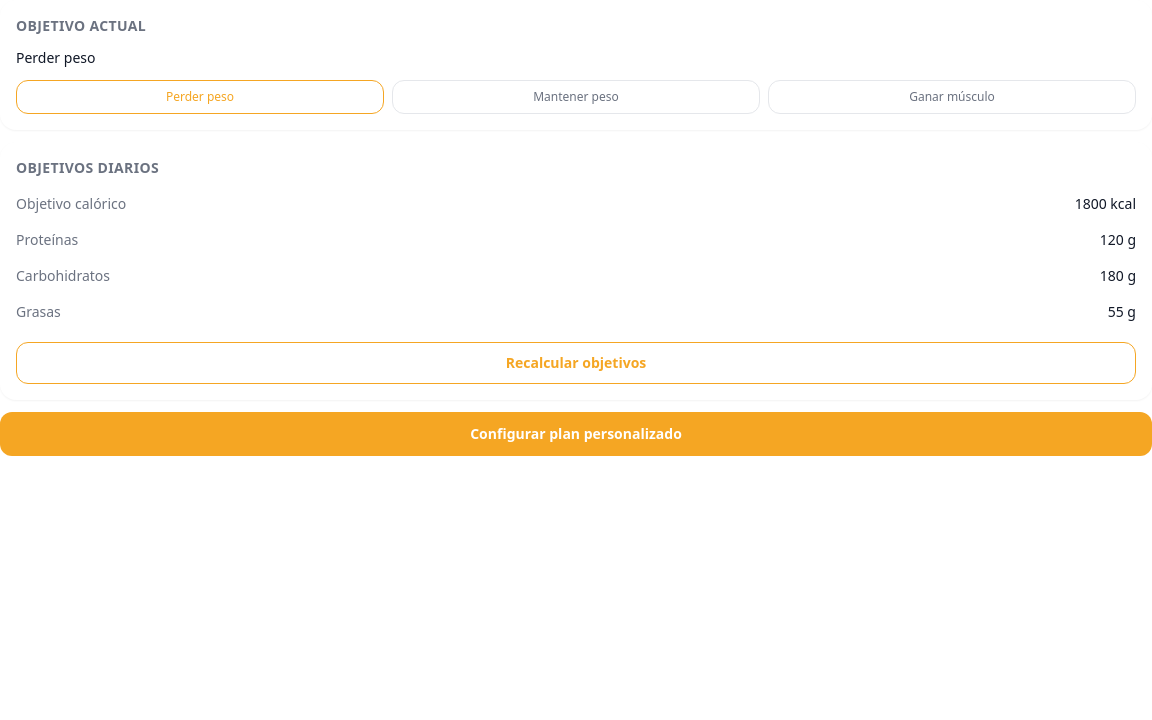
Test case: PlanRoute › recalculate feedback › clears the recalc message when a goal change is confirmed or a goal sheet opens
Click the button "Recalcular objetivos" at (576, 363), box [16,342,1136,384]
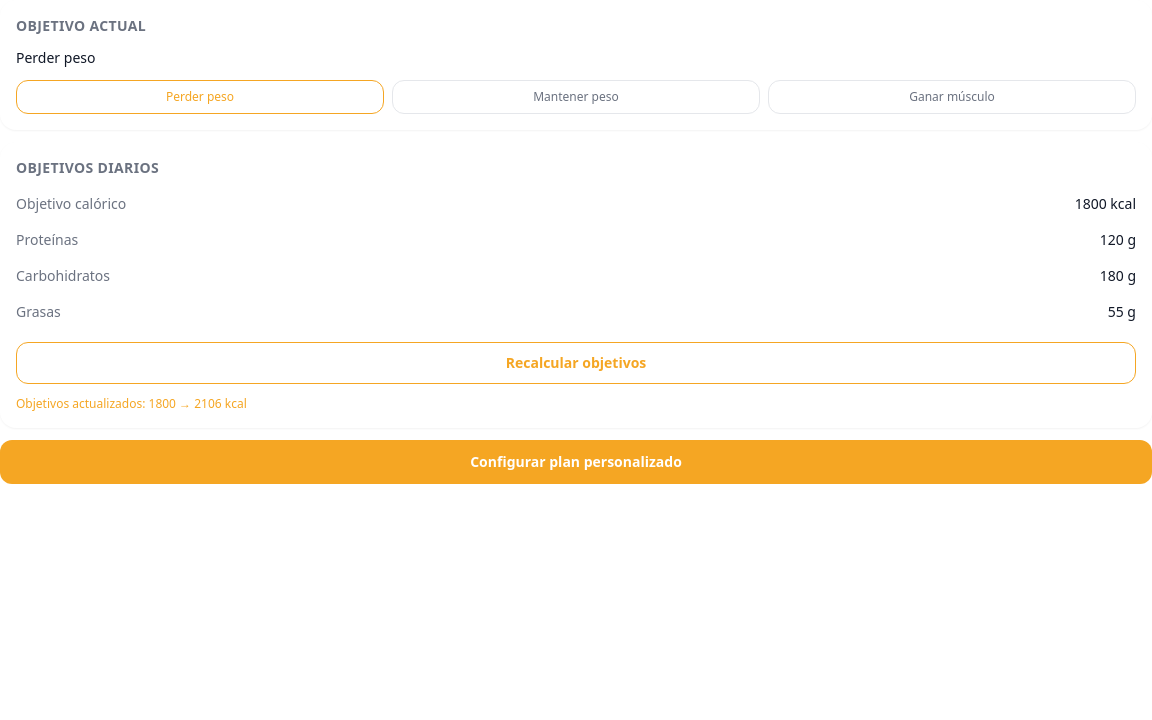
Now the text "Objetivos actualizados: 1800 → 2106 kcal" is shown, box [16,395,247,412]
Click the button "Mantener peso" at (576, 97), box [392,80,760,114]
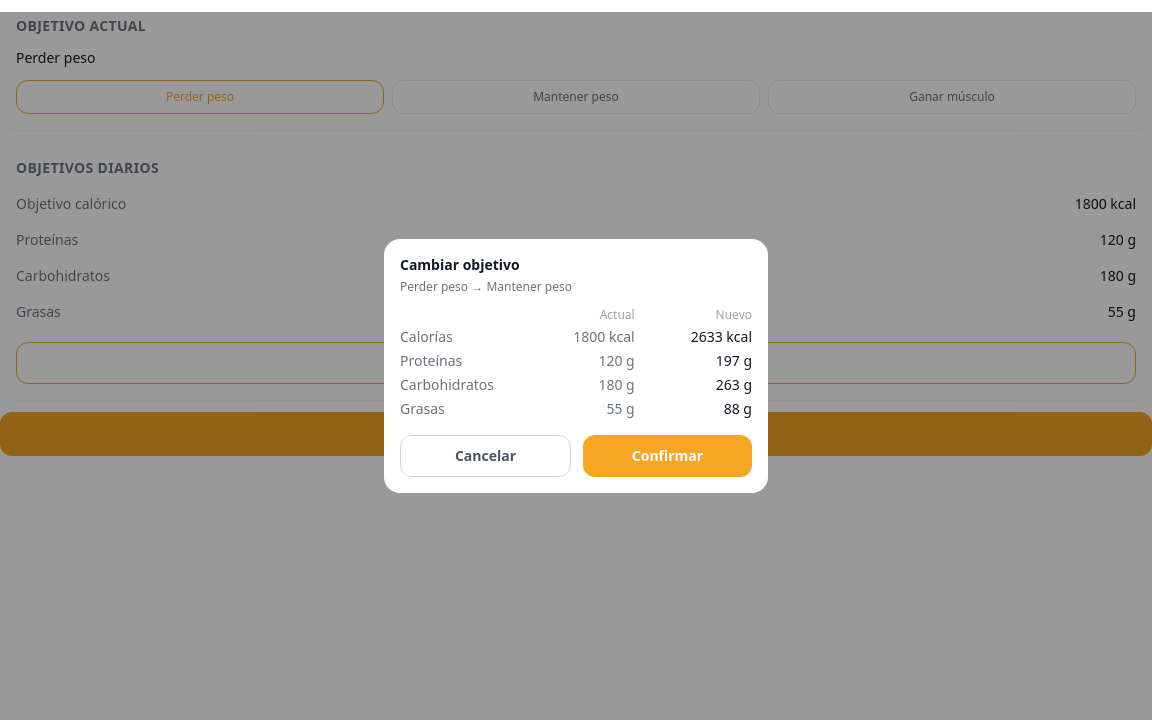
Now the text "Objetivos actualizados" is gone
Click the button "Confirmar" at (668, 456), box [583,435,752,477]
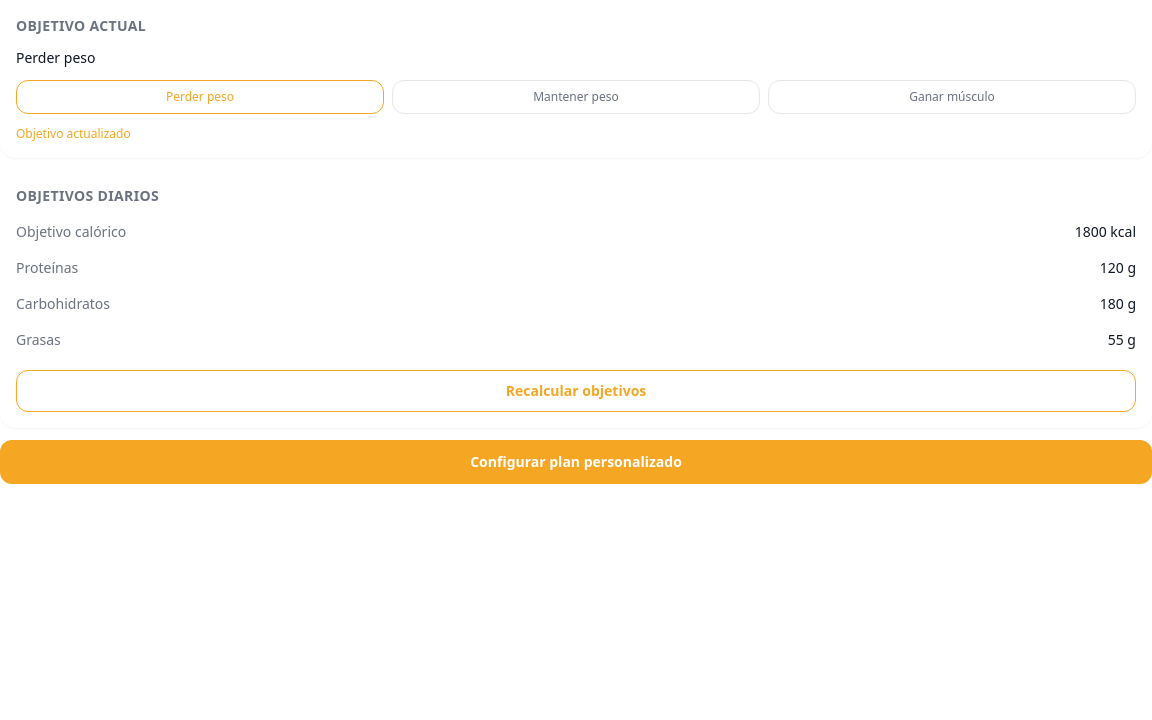
Expected: the text "Objetivos actualizados" is not shown
Now the dialog is gone
Now the text "Objetivo actualizado" is shown, box [16,125,131,142]
